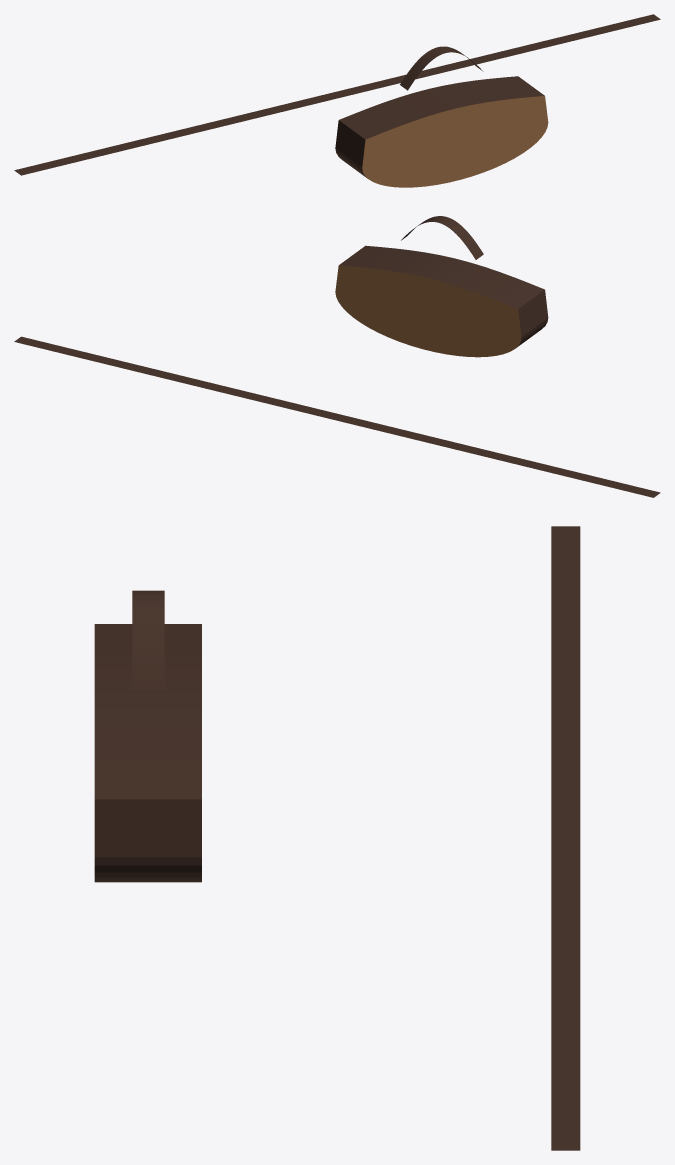
The model's file is cognac-hour.glb.
3 renders of one model, top to bottom at view 1: azimuth 30°, elevation 25°; view 2: azimuth 150°, elevation 25°; view 3: azimuth 270°, elevation 25°, orthographic. The views are drawn at different scales.
Visible parts, largest first — view 1: CrescentBody, CrossbodyStrap, ShoulderStrap; view 2: CrescentBody, CrossbodyStrap, ShoulderStrap; view 3: CrescentBody, CrossbodyStrap, ShoulderStrap.
Boxes of the visible parts, x1,y1,x2,y2 form: CrescentBody: (335,76,548,187); CrossbodyStrap: (14,14,660,175); ShoulderStrap: (400,46,483,90); CrescentBody: (335,245,548,357); CrossbodyStrap: (14,336,660,497); ShoulderStrap: (401,216,483,259); CrescentBody: (94,624,201,882); CrossbodyStrap: (551,526,580,1150); ShoulderStrap: (132,590,164,689).
Size of the model in its own units: 1.1 by 0.1992 by 0.3616.
